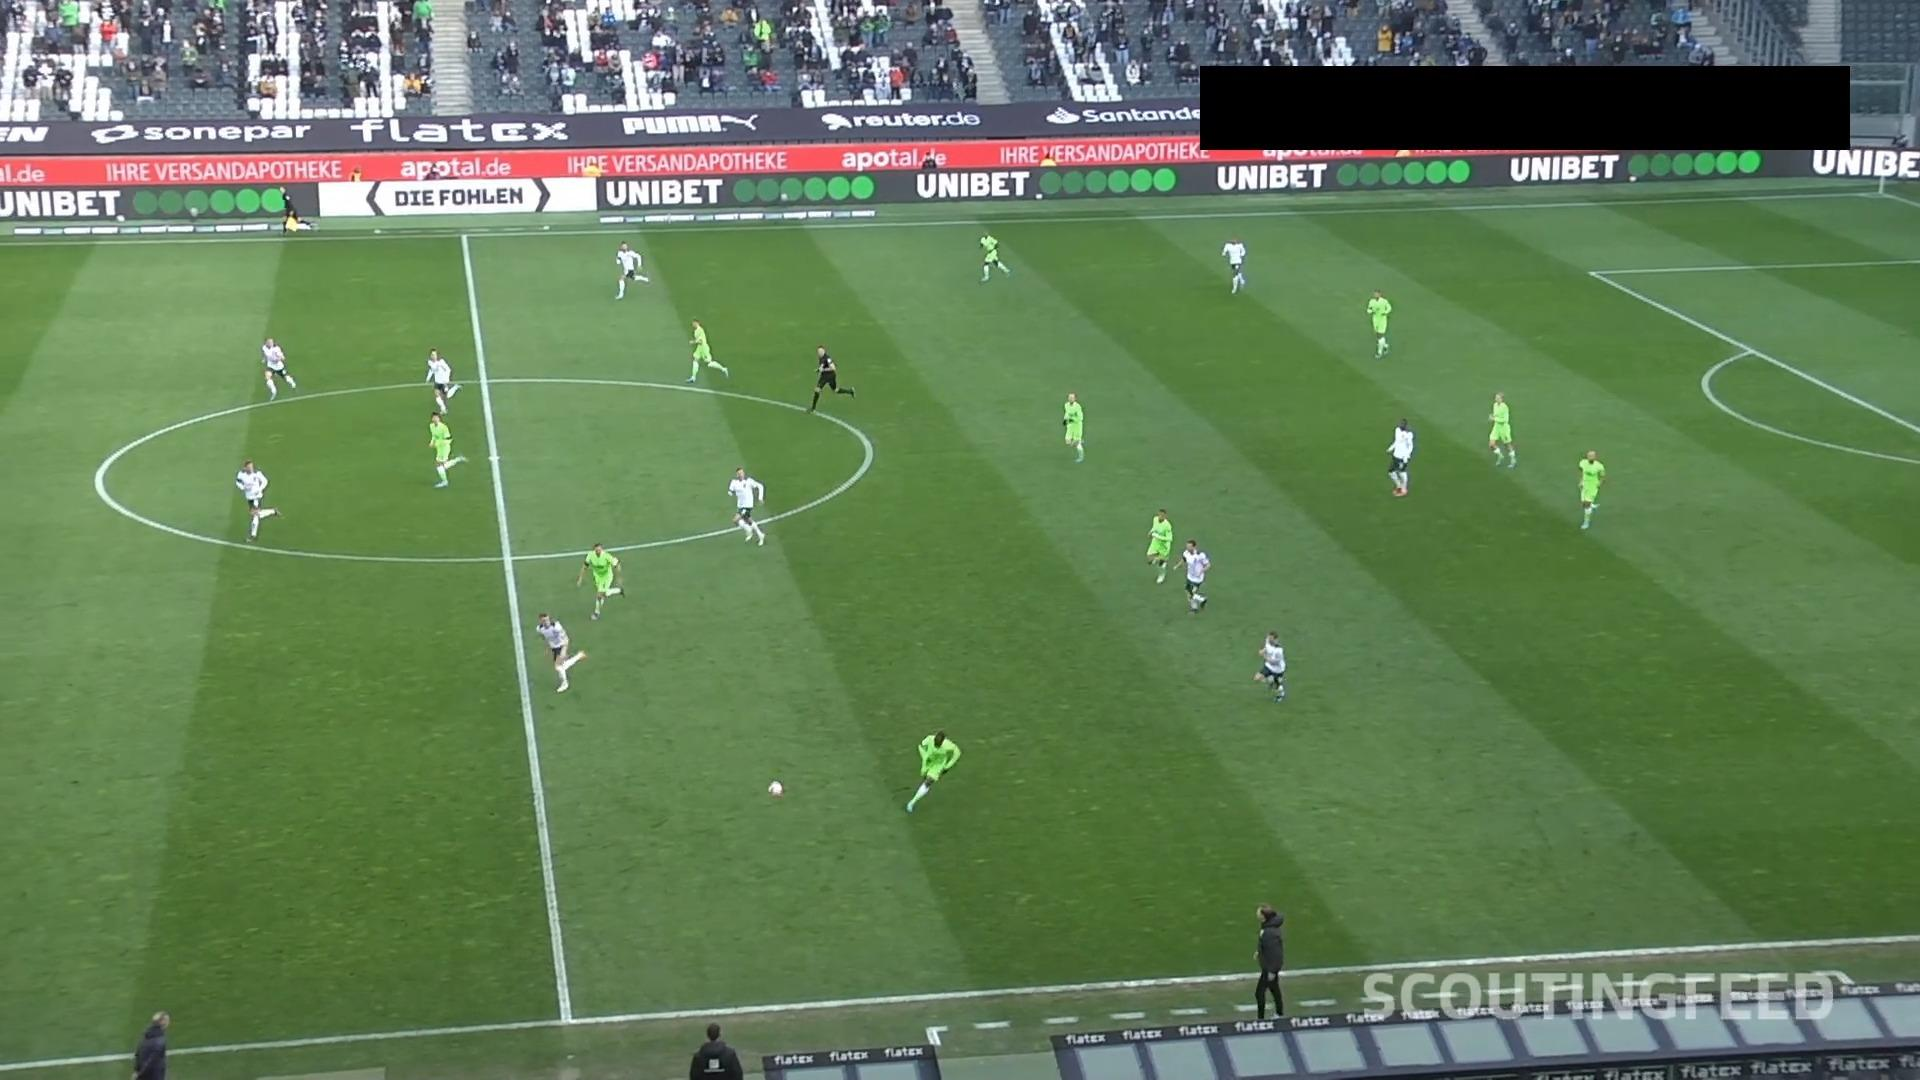ball: (766, 778, 786, 800)
